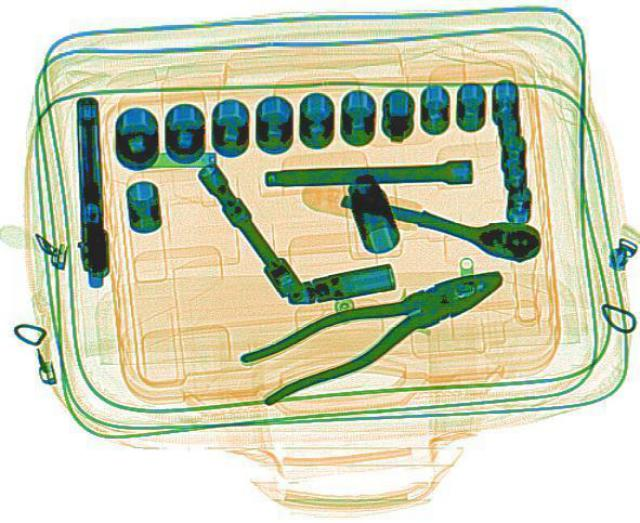Gun: (63, 91, 111, 286)
Pliers: (228, 249, 522, 406)
